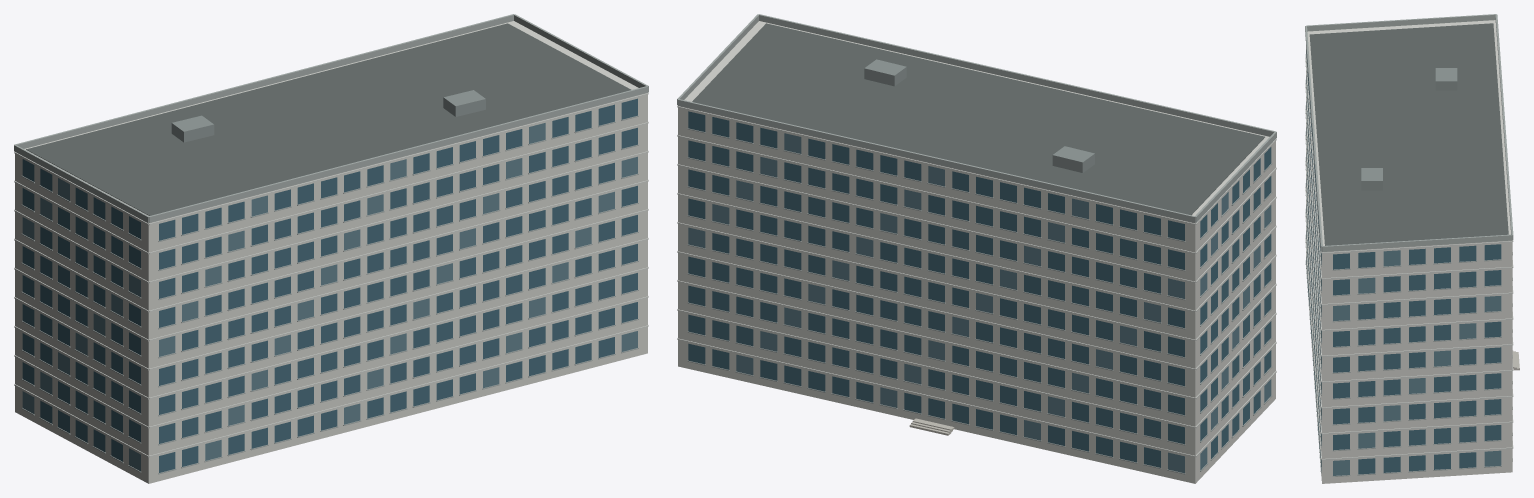
The model's file is 东侧办公园区-007.glb.
3 renders of one model, left to right at view 1: azimuth 30°, elevation 25°; view 2: azimuth 150°, elevation 25°; view 3: azimuth 270°, elevation 25°, orthographic. The views are drawn at different scales.
Parts seen in each view (by area): view 1: 东侧办公园区-007; view 2: 东侧办公园区-007; view 3: 东侧办公园区-007.
Boxes of the visible parts, box(x1,y1,x2,y2) form: 东侧办公园区-007: box(14, 14, 648, 483); 东侧办公园区-007: box(677, 14, 1276, 483); 东侧办公园区-007: box(1305, 14, 1519, 483).
Bounding box in the file's own units: 70.95 × 34.42 × 27.65.
